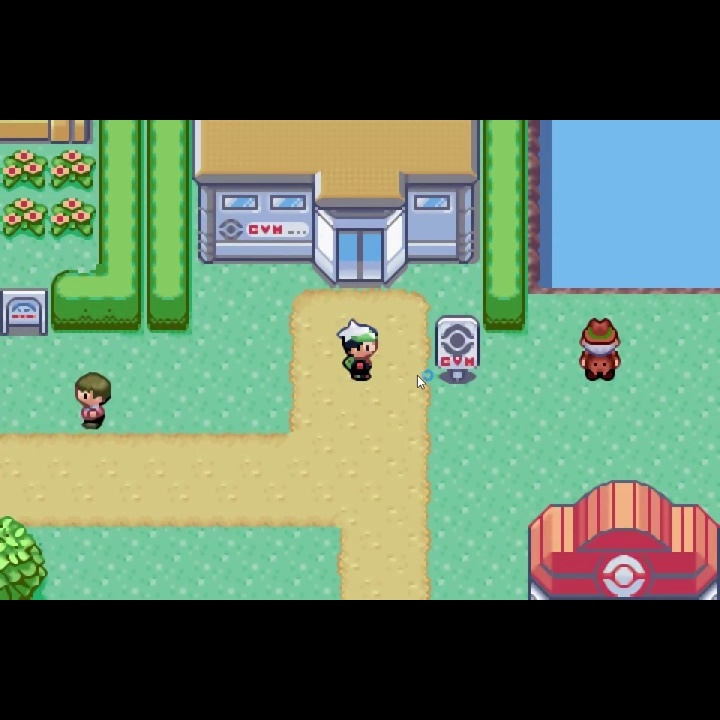gym: (189, 119, 481, 293)
npc: (574, 312, 625, 386), (336, 317, 380, 386), (75, 371, 114, 434)
pokecen: (523, 478, 720, 601)
wall: (1, 516, 49, 600)
